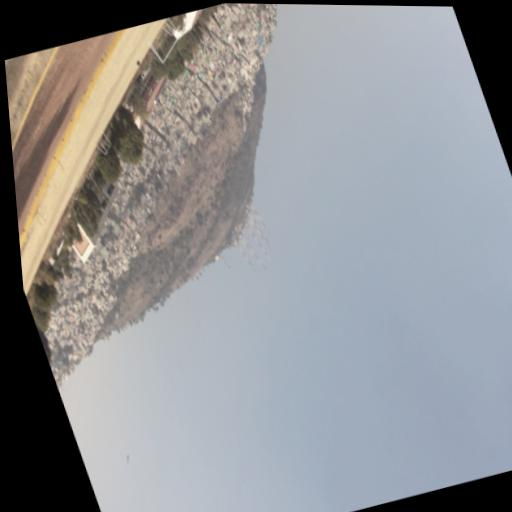drones: (123, 451, 132, 463)
